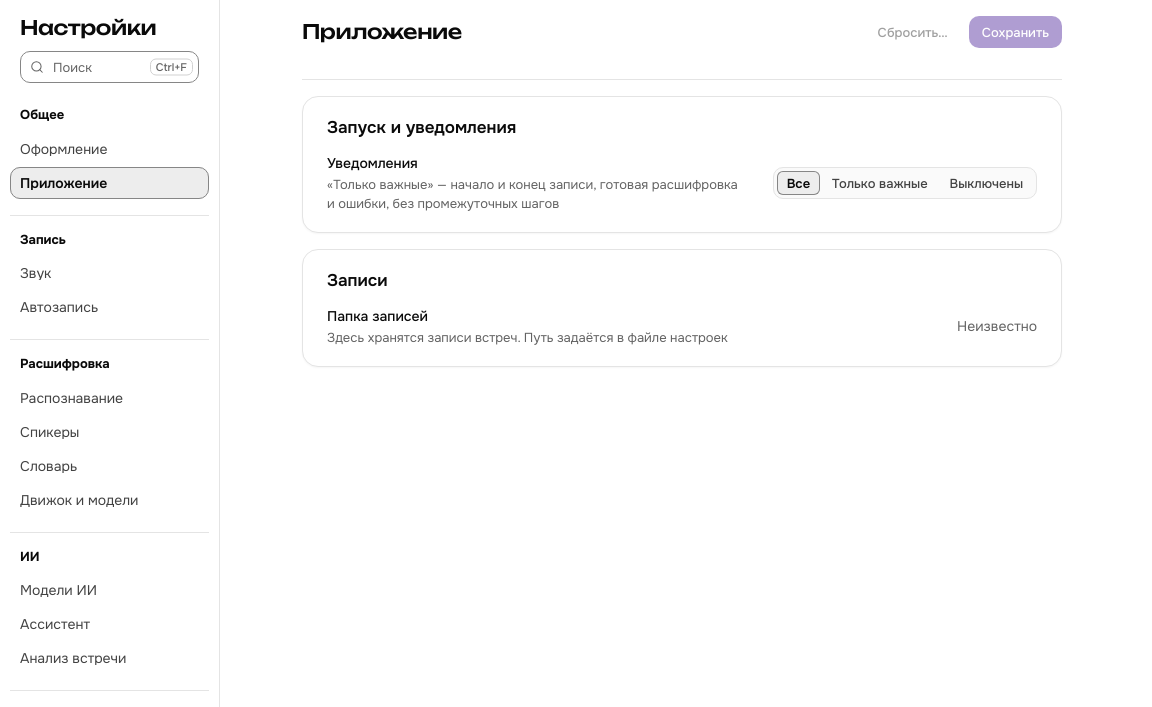
Hugging Face: статус из /hf/status, значение токена не показывается
Click the button "Спикеры": coordinates (110, 432) [10, 416, 209, 448]
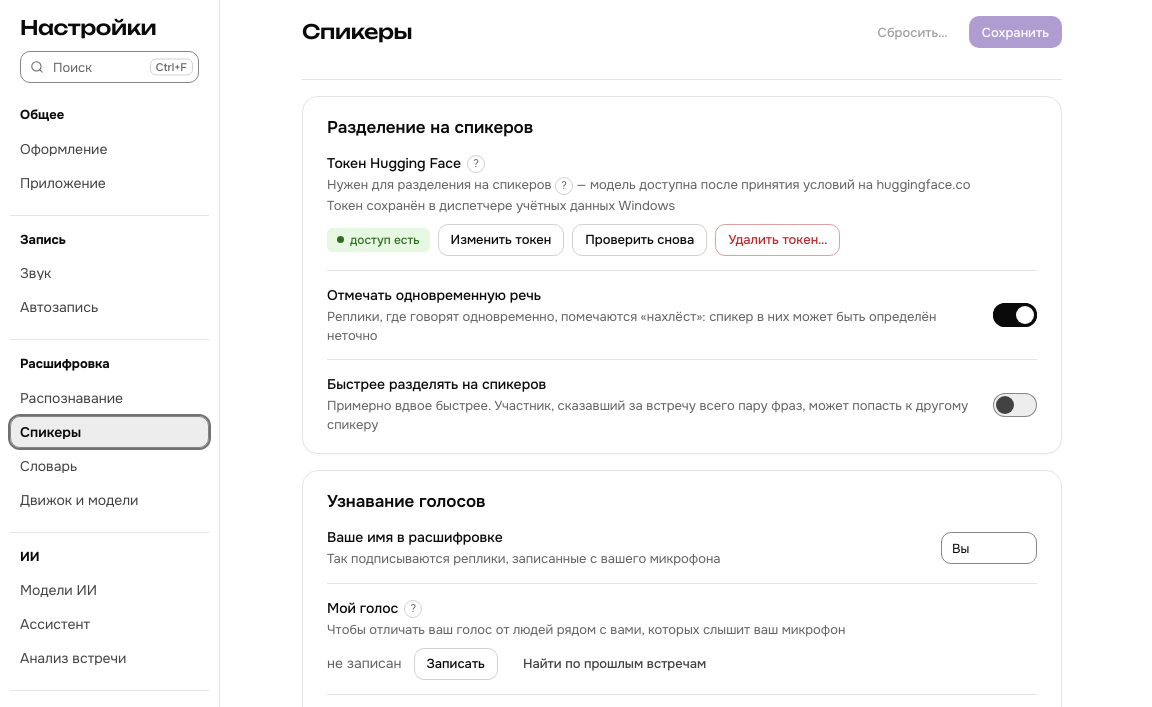
Now the text "Токен сохранён в диспетчере учётных данных Windows" is shown, box [327, 197, 675, 214]
Now the text "доступ есть" is shown, box [327, 228, 430, 252]
